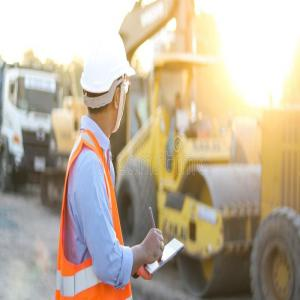white: (83, 28, 130, 138)
